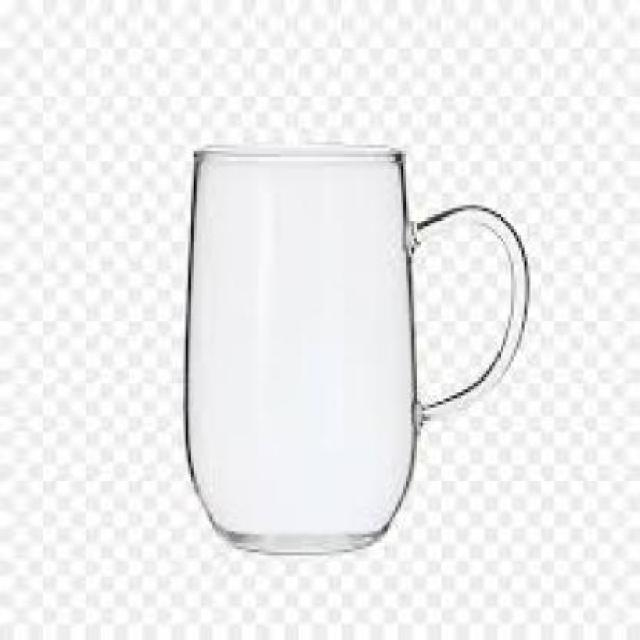kaca: (183, 142, 526, 552)
